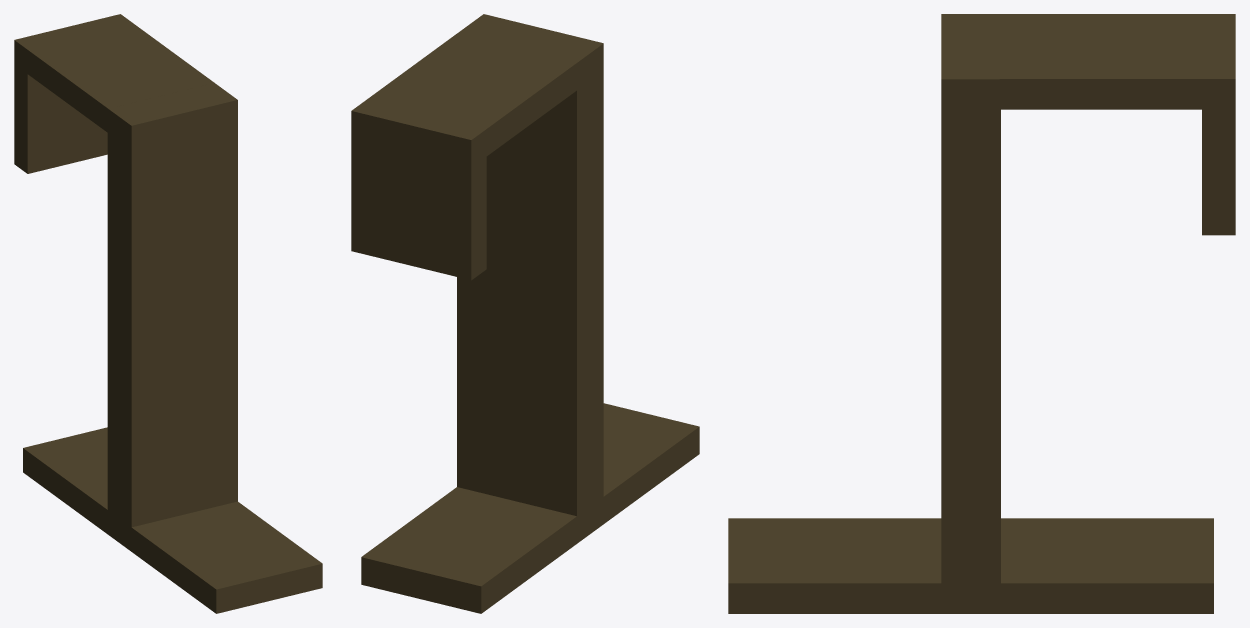
The model's file is Hangman 1.fbx.
3 renders of one model, left to right at view 1: azimuth 30°, elevation 25°; view 2: azimuth 150°, elevation 25°; view 3: azimuth 270°, elevation 25°, orthographic. The views are drawn at different scales.
Parts seen in each view (by area): view 1: pCube2, pCube1, pasted__pCube1, pasted__pasted__pCube1; view 2: pCube2, pCube1, pasted__pCube1, pasted__pasted__pCube1; view 3: pCube1, pCube2, pasted__pCube1, pasted__pasted__pCube1.
Boxes of the visible parts, x1,y1,x2,y2 form: pCube2: (107,83,237,527); pCube1: (23,427,322,613); pasted__pCube1: (14,14,214,132); pasted__pasted__pCube1: (14,61,107,173); pCube2: (457,14,603,516); pCube1: (361,403,699,613); pasted__pCube1: (351,33,577,167); pasted__pasted__pCube1: (351,138,486,280); pCube1: (728,518,1213,613); pCube2: (941,14,1000,583); pasted__pCube1: (999,14,1235,109); pasted__pasted__pCube1: (1202,105,1235,235).
Size of the model in its own units: 1 by 3.83 by 3.29.
